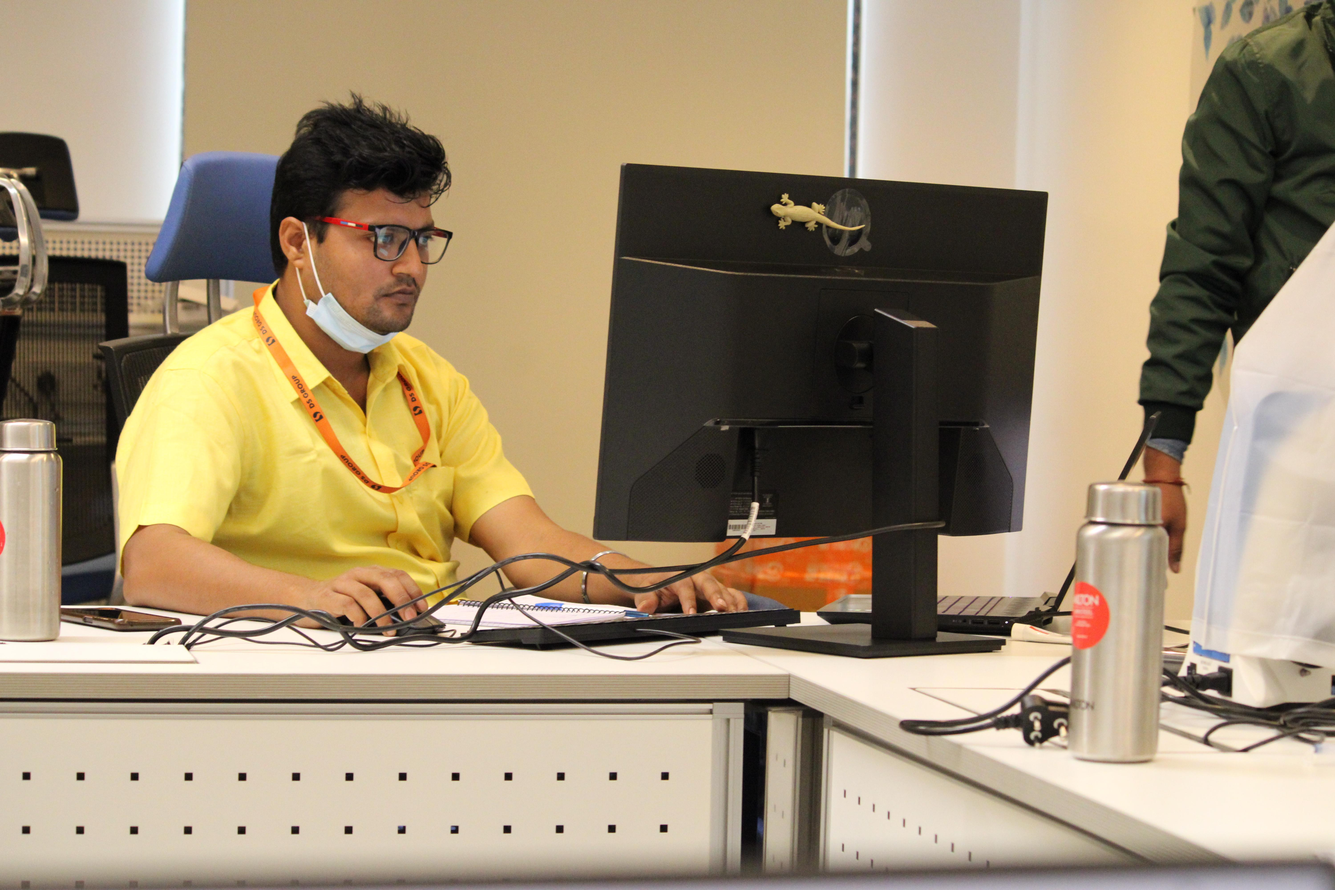lizard: (752, 183, 864, 242)
